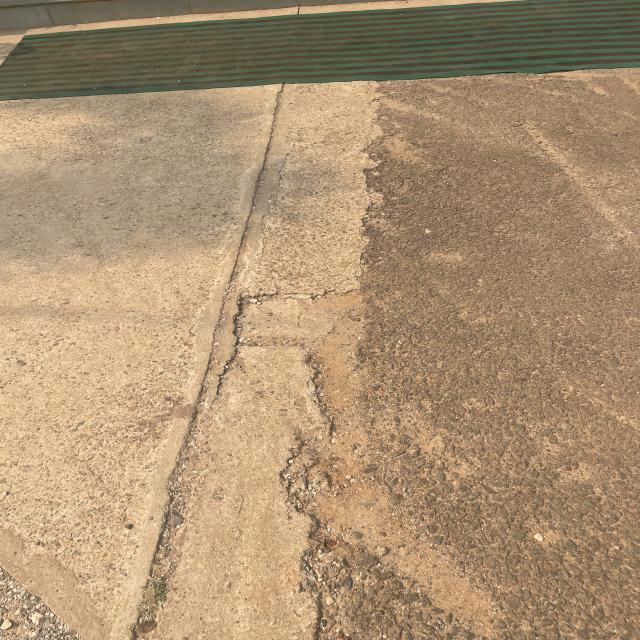D43: (81, 112, 409, 626)
